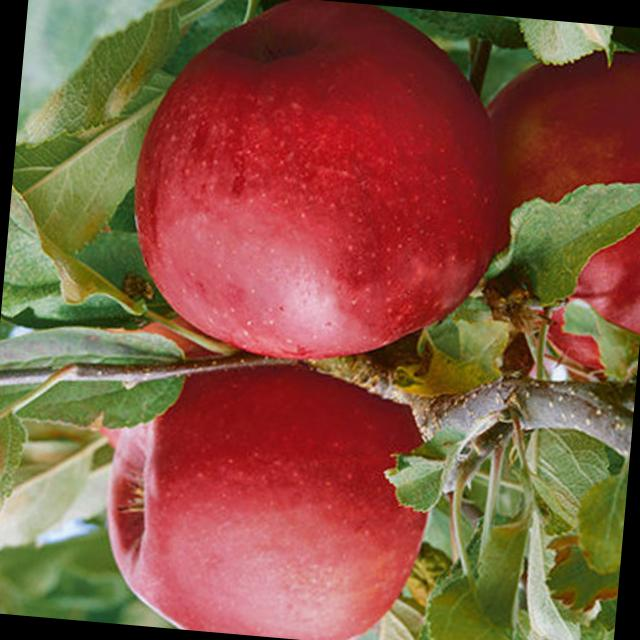apple_fruit: (3, 1, 640, 640), (36, 306, 491, 639), (103, 12, 526, 365)
